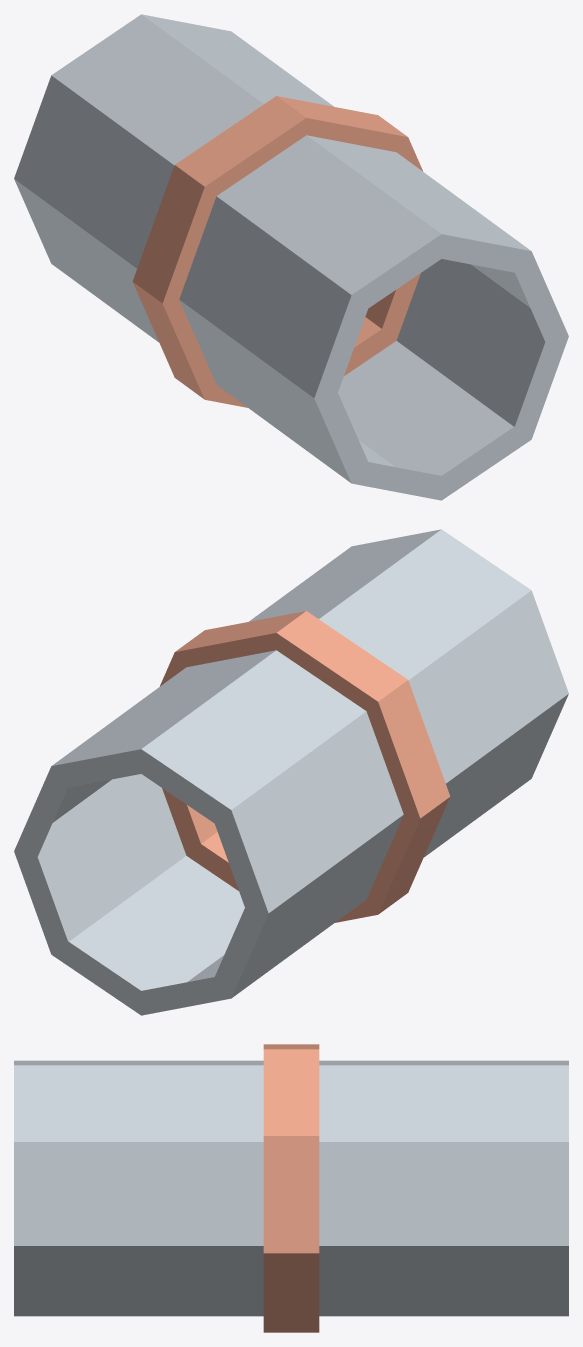
File: pipeStraightLiner.glb
3 renders of one model, top to bottom at view 1: azimuth 30°, elevation 25°; view 2: azimuth 150°, elevation 25°; view 3: azimuth 270°, elevation 25°, orthographic. The views are drawn at different scales.
Parts seen in each view (by area): view 1: pipeStraightLiner; view 2: pipeStraightLiner; view 3: pipeStraightLiner.
Part boxes in pixels (left/top/right/bottom): pipeStraightLiner: left=14, top=14, right=568, bottom=500; pipeStraightLiner: left=14, top=529, right=568, bottom=1015; pipeStraightLiner: left=14, top=1044, right=568, bottom=1332.
Size of the model in its own units: 5.53 by 5.53 by 10.
